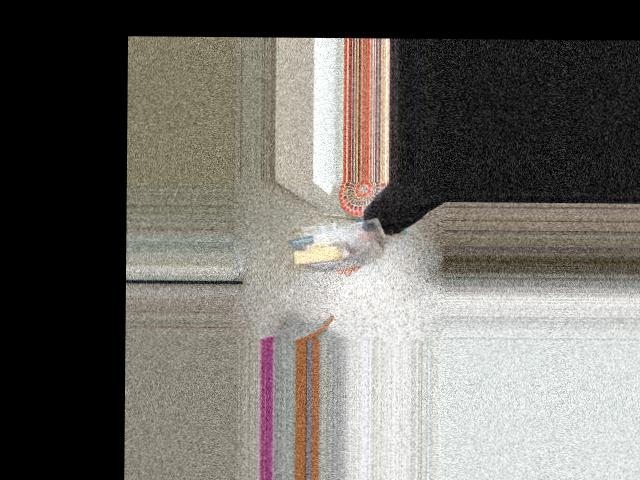cheese: (288, 214, 384, 273)
